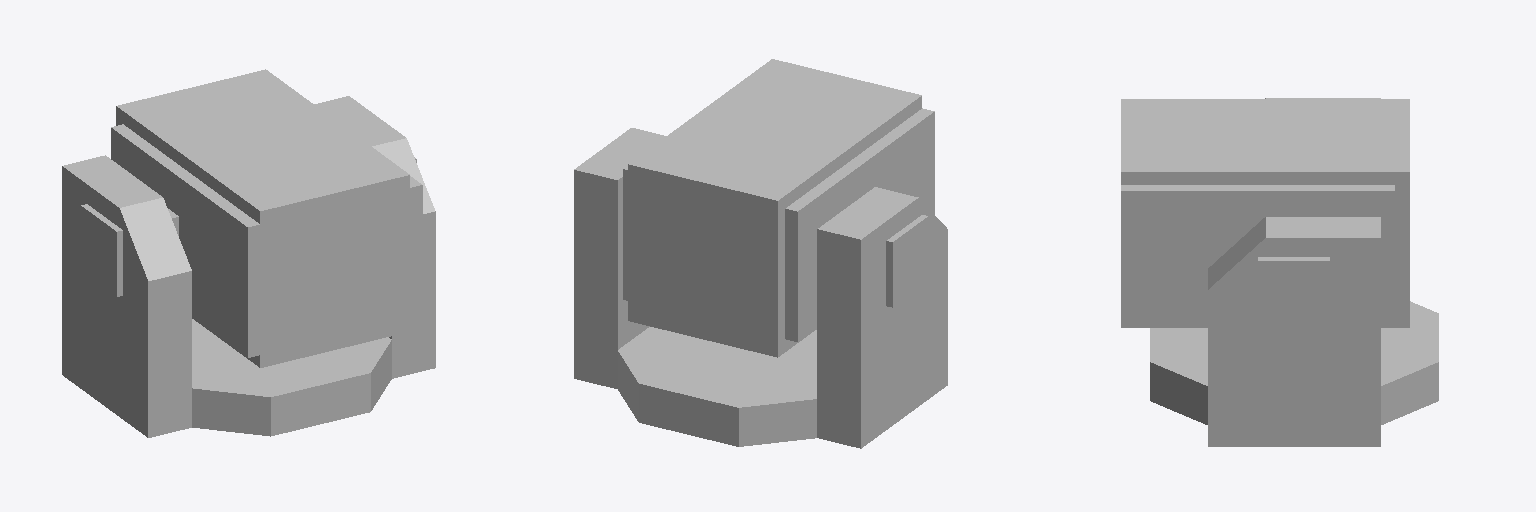
File: phage_ray_item.obj
3 views of the same model, side by side, from view 1: azimuth 30°, elevation 25°; view 2: azimuth 150°, elevation 25°; view 3: azimuth 270°, elevation 25° (orthographic).
Parts seen in each view (by area): view 1: cube; view 2: cube; view 3: cube.
Boxes of the visible parts, x1,y1,x2,y2 form: cube: [62, 69, 435, 437]; cube: [574, 59, 947, 448]; cube: [1121, 98, 1438, 446].
Bounding box in the file's own units: 3 × 2.31 × 2.75.